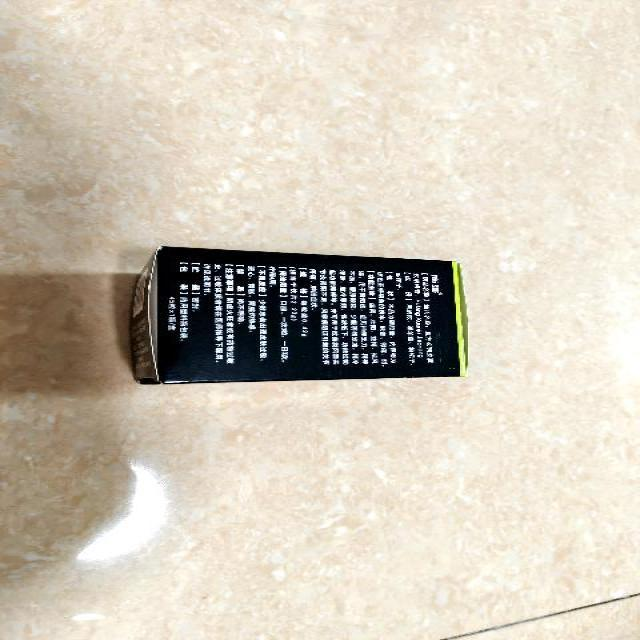box: (132, 244, 470, 384)
